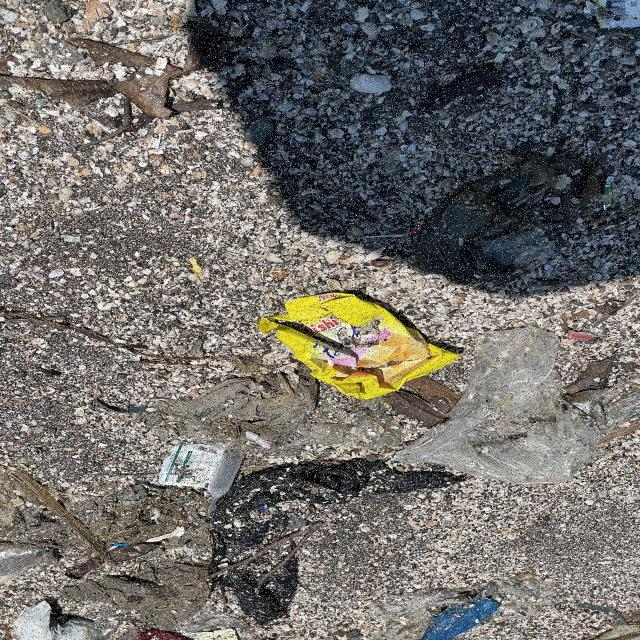plastic_waste: (257, 292, 462, 402), (157, 446, 230, 490)
